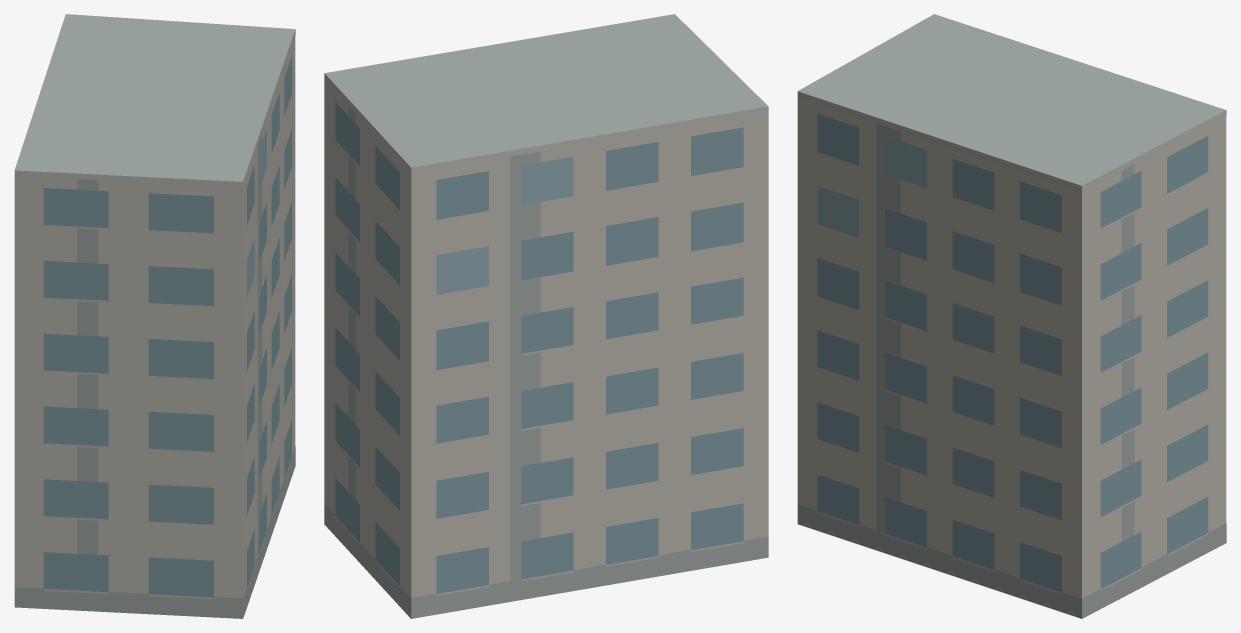
File: survey-upis-32830459.glb
3 renders of one model, left to right at view 1: azimuth 30°, elevation 25°; view 2: azimuth 150°, elevation 25°; view 3: azimuth 270°, elevation 25°, orthographic. The views are drawn at different scales.
Visible parts, largest first — view 1: survey-upis-32830459.tmp; view 2: survey-upis-32830459.tmp; view 3: survey-upis-32830459.tmp.
Boxes of the visible parts, bbox=[...] form: survey-upis-32830459.tmp: bbox=[14, 14, 295, 618]; survey-upis-32830459.tmp: bbox=[324, 14, 768, 618]; survey-upis-32830459.tmp: bbox=[797, 14, 1226, 618].
Size of the model in its own units: 15.59 by 18.3 by 16.43.
